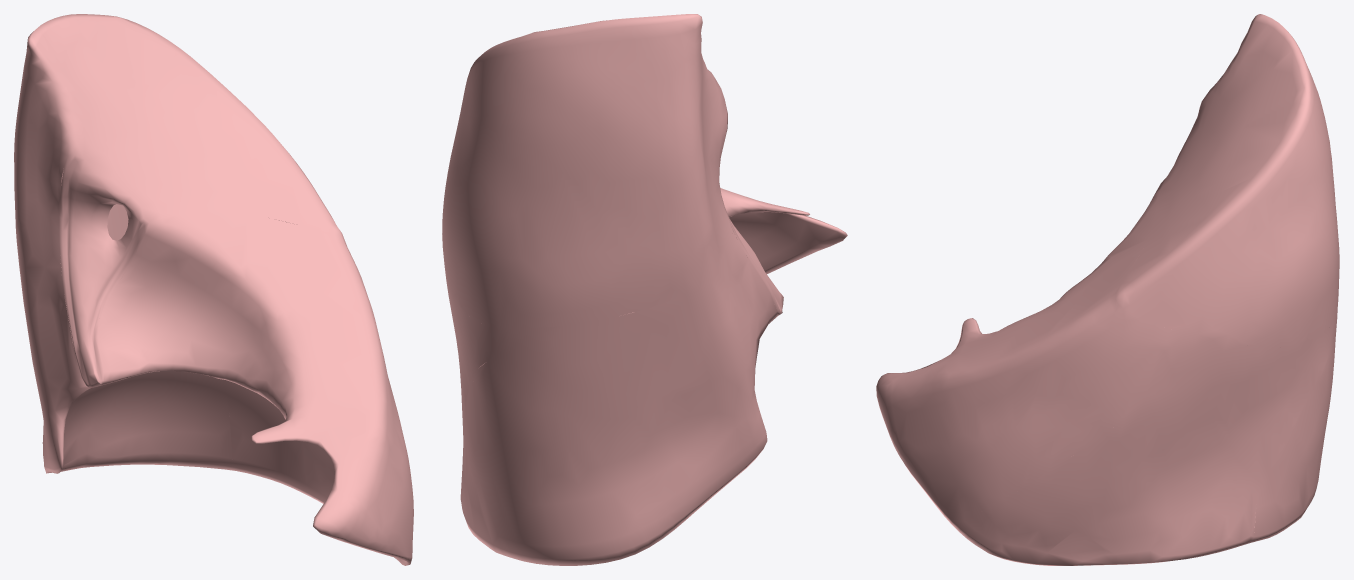
The model's file is visceras-inferior-lobe-of-left-lung.glb.
3 views of the same model, side by side, from view 1: azimuth 30°, elevation 25°; view 2: azimuth 150°, elevation 25°; view 3: azimuth 270°, elevation 25° (orthographic). The views are drawn at different scales.
Visible parts, largest first — view 1: Inferior lobe of left lung; view 2: Inferior lobe of left lung; view 3: Inferior lobe of left lung.
Boxes of the visible parts, left/top/right/bottom form: Inferior lobe of left lung: left=14, top=14, right=413, bottom=565; Inferior lobe of left lung: left=442, top=14, right=847, bottom=565; Inferior lobe of left lung: left=876, top=14, right=1339, bottom=565.
Bounding box in the file's own units: 0.1115 × 0.1934 × 0.1819.
